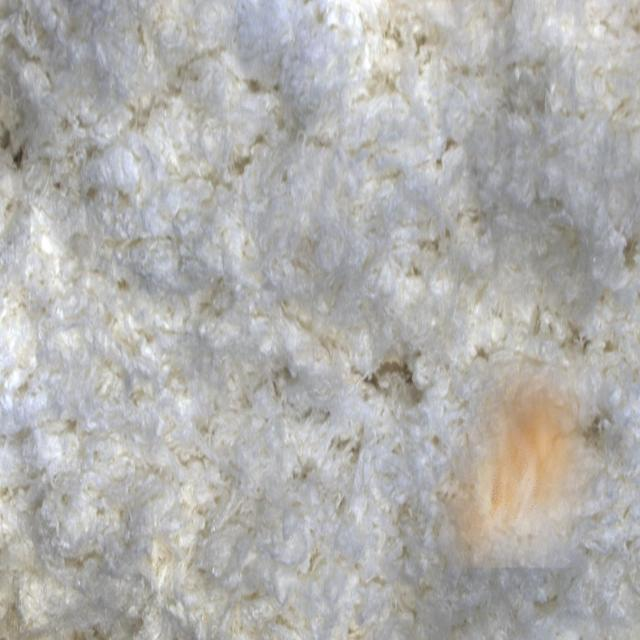dust: (432, 354, 607, 568)
